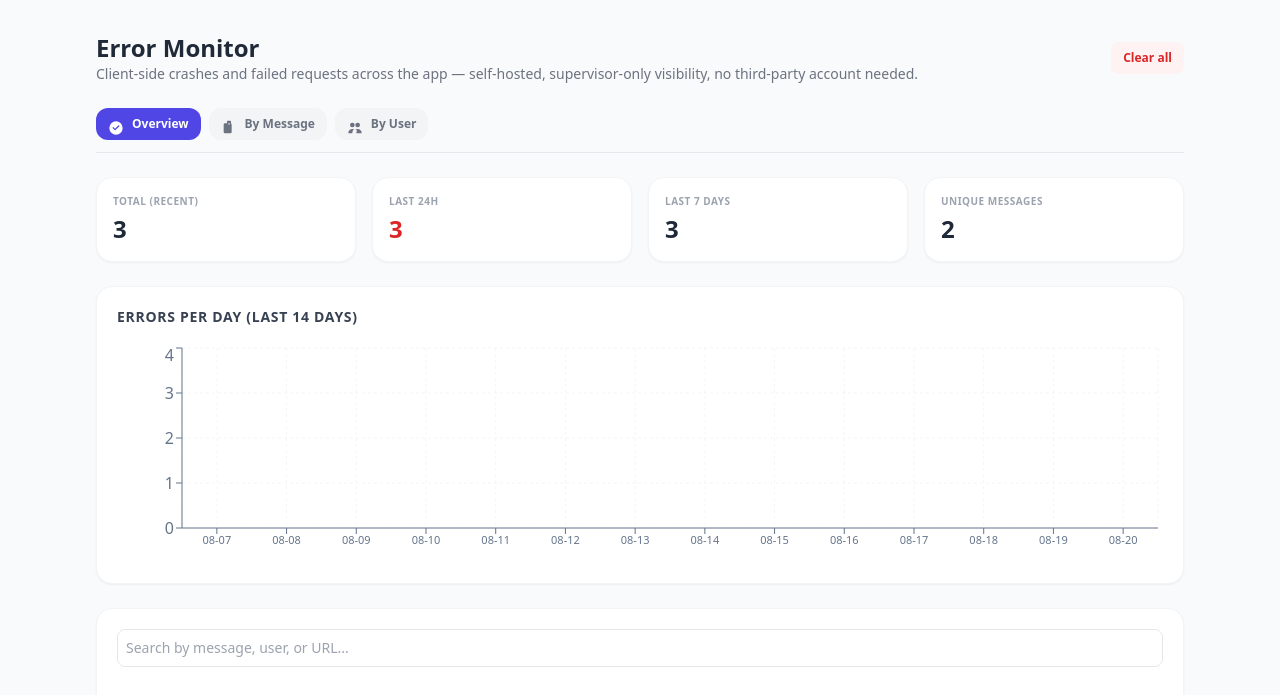
Test: ErrorMonitorView › the By User tab aggregates errors per user
Click the tab "By User". click: click(382, 124)
box: [335, 108, 428, 140]
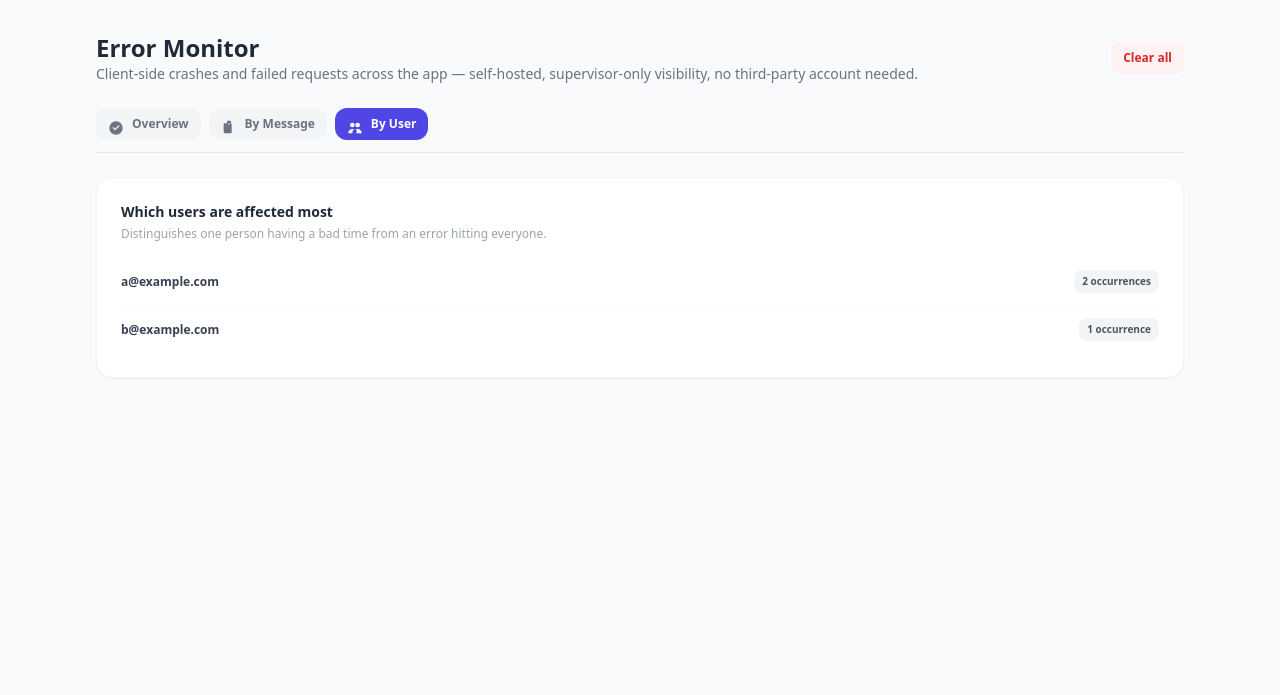
Expected: the text "a@example.com" is shown, [121, 274, 219, 290]
Now the text "2 occurrences" is shown, box [1074, 270, 1159, 293]
